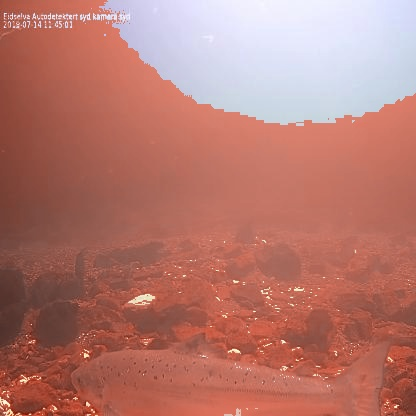salmon: (68, 330, 395, 416)
